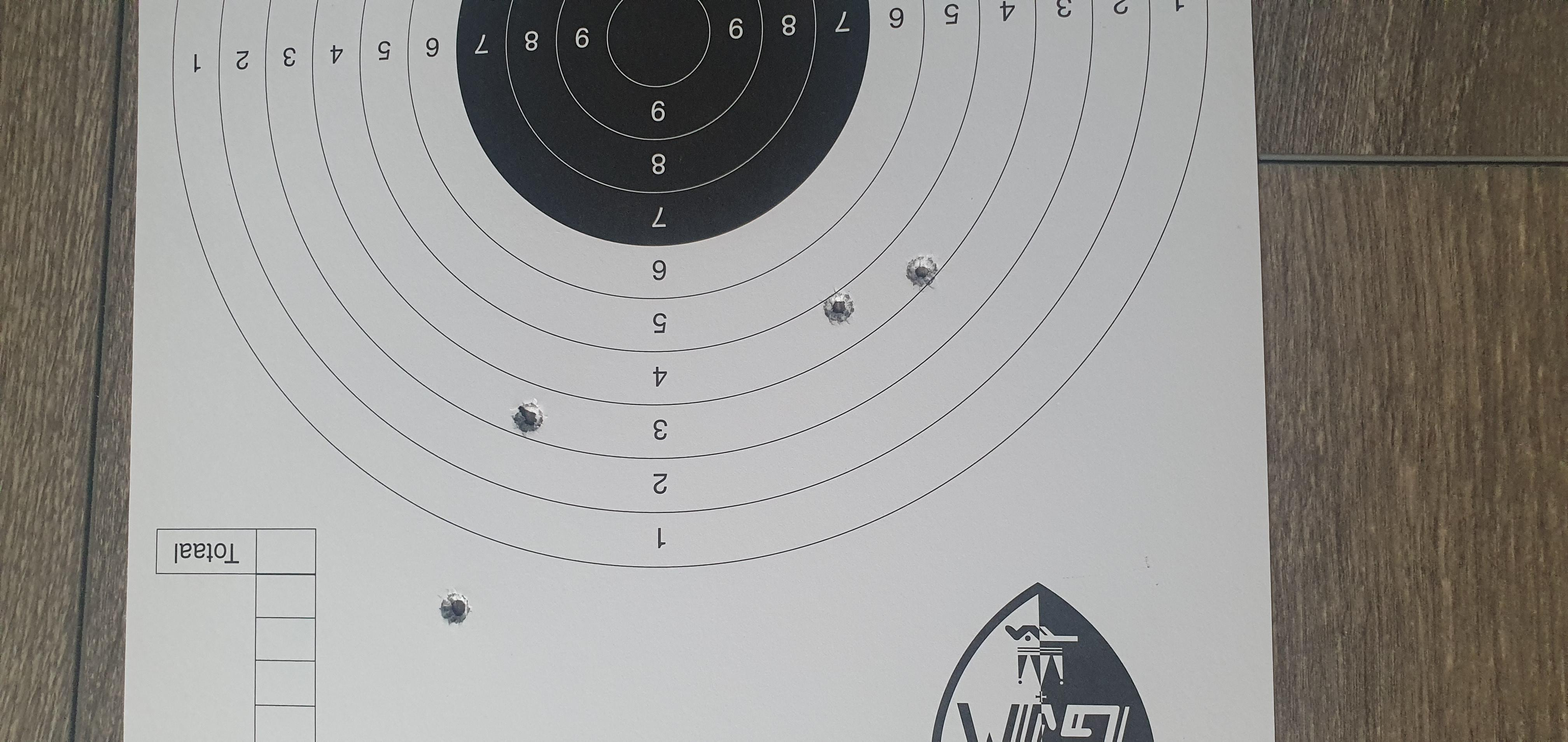hole: (241, 205, 331, 224), (639, 241, 730, 259), (877, 387, 962, 405), (953, 428, 1032, 445)
